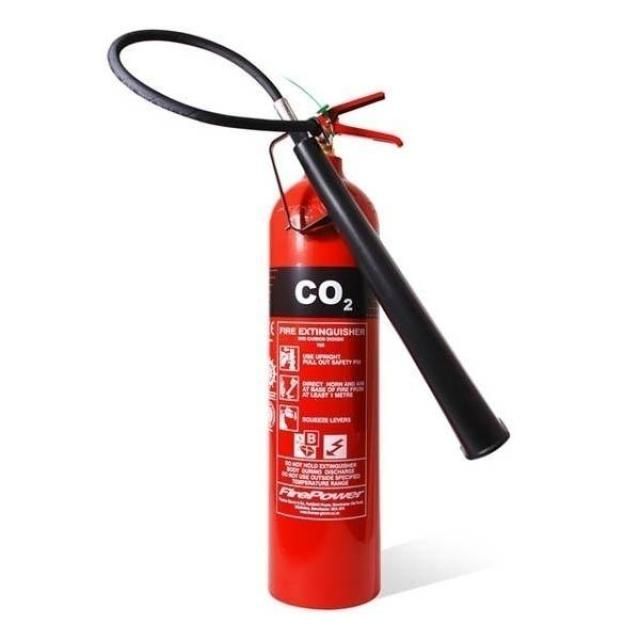fire_extinguisher: (101, 23, 516, 615)
